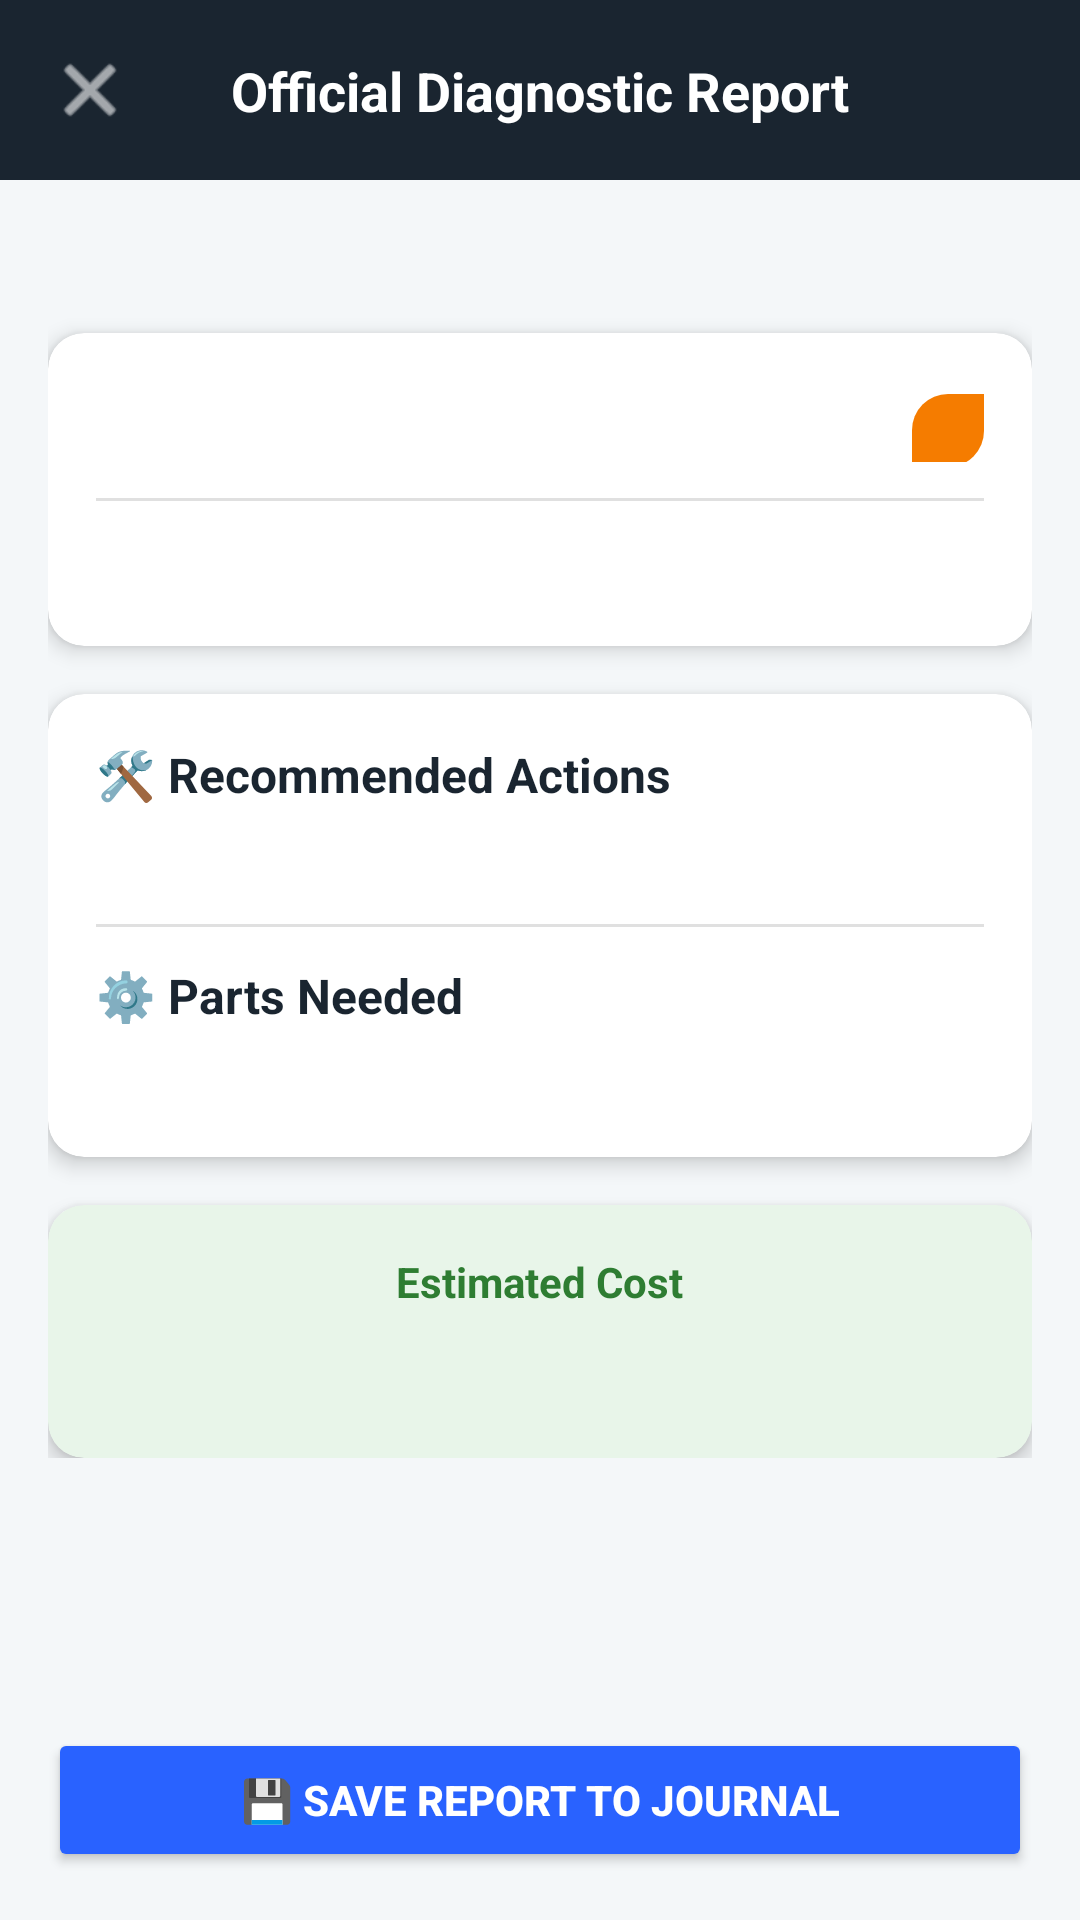

Locate icon controls on the screen. Image size 1080x1920, boxes as (x1, y1, x2, y2).
close clear cancel: (64, 64, 116, 116)
